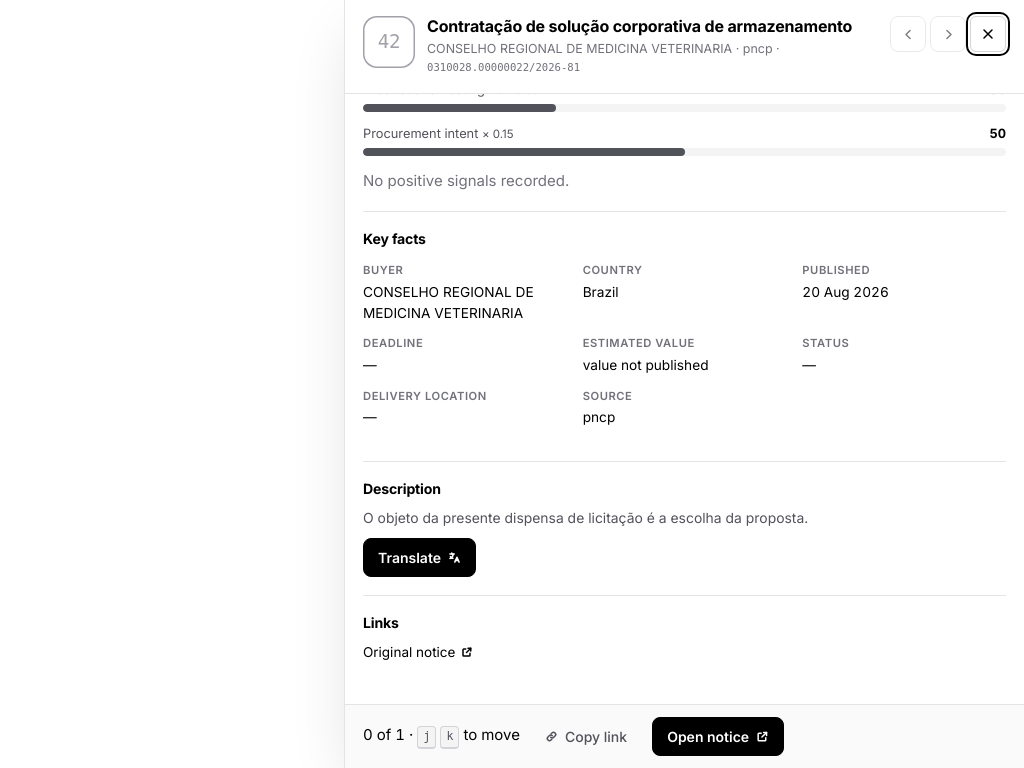
Scenario: when it fails › keeps the original text and says why
(page scrolled)
Click the button "Translate" at (420, 558), box [363,538,476,578]
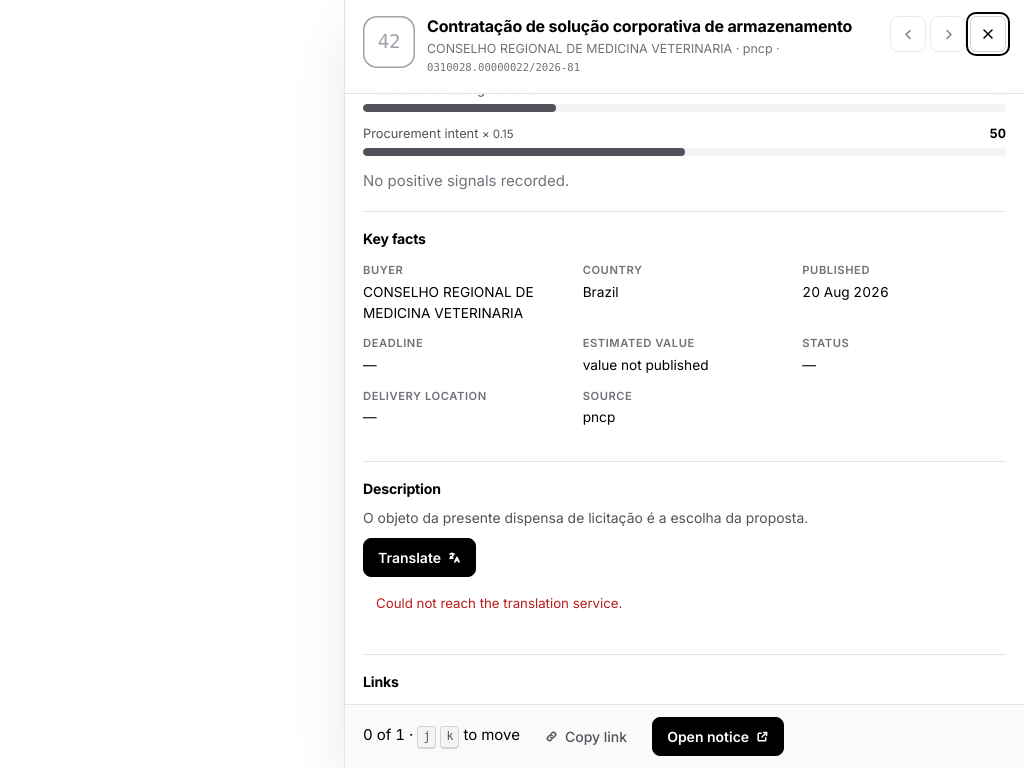
Expected: the text with class "desc" reads "O objeto da presente dispensa de licitação é a escolha da proposta.", [363,510,808,526]
Expected: the message "Could not reach the translation service." is shown, [363,584,635,624]
